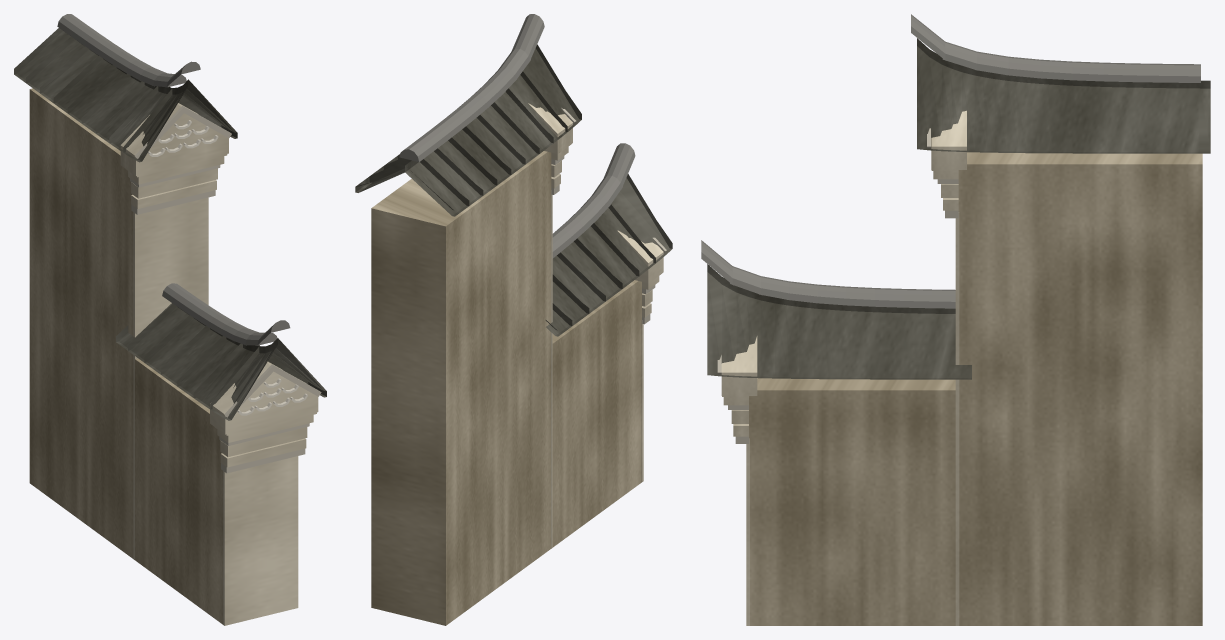
Rendered from cai-residence-stepped-tiled-wall-far.glb.
3 views of the same model, side by side, from view 1: azimuth 30°, elevation 25°; view 2: azimuth 150°, elevation 25°; view 3: azimuth 270°, elevation 25° (orthographic). The views are drawn at different scales.
Visible parts, largest first — view 1: 高桥蔡宅阶梯封火山墙的两级瓦头与三角灰饰; view 2: 高桥蔡宅阶梯封火山墙的两级瓦头与三角灰饰; view 3: 高桥蔡宅阶梯封火山墙的两级瓦头与三角灰饰.
Part boxes in pixels (<box>): 高桥蔡宅阶梯封火山墙的两级瓦头与三角灰饰: <box>14,14,326,625</box>; 高桥蔡宅阶梯封火山墙的两级瓦头与三角灰饰: <box>355,14,672,625</box>; 高桥蔡宅阶梯封火山墙的两级瓦头与三角灰饰: <box>701,14,1210,625</box>.
Size of the model in its own units: 0.5 by 2.45 by 1.92.
6 materials, 3 textured.
